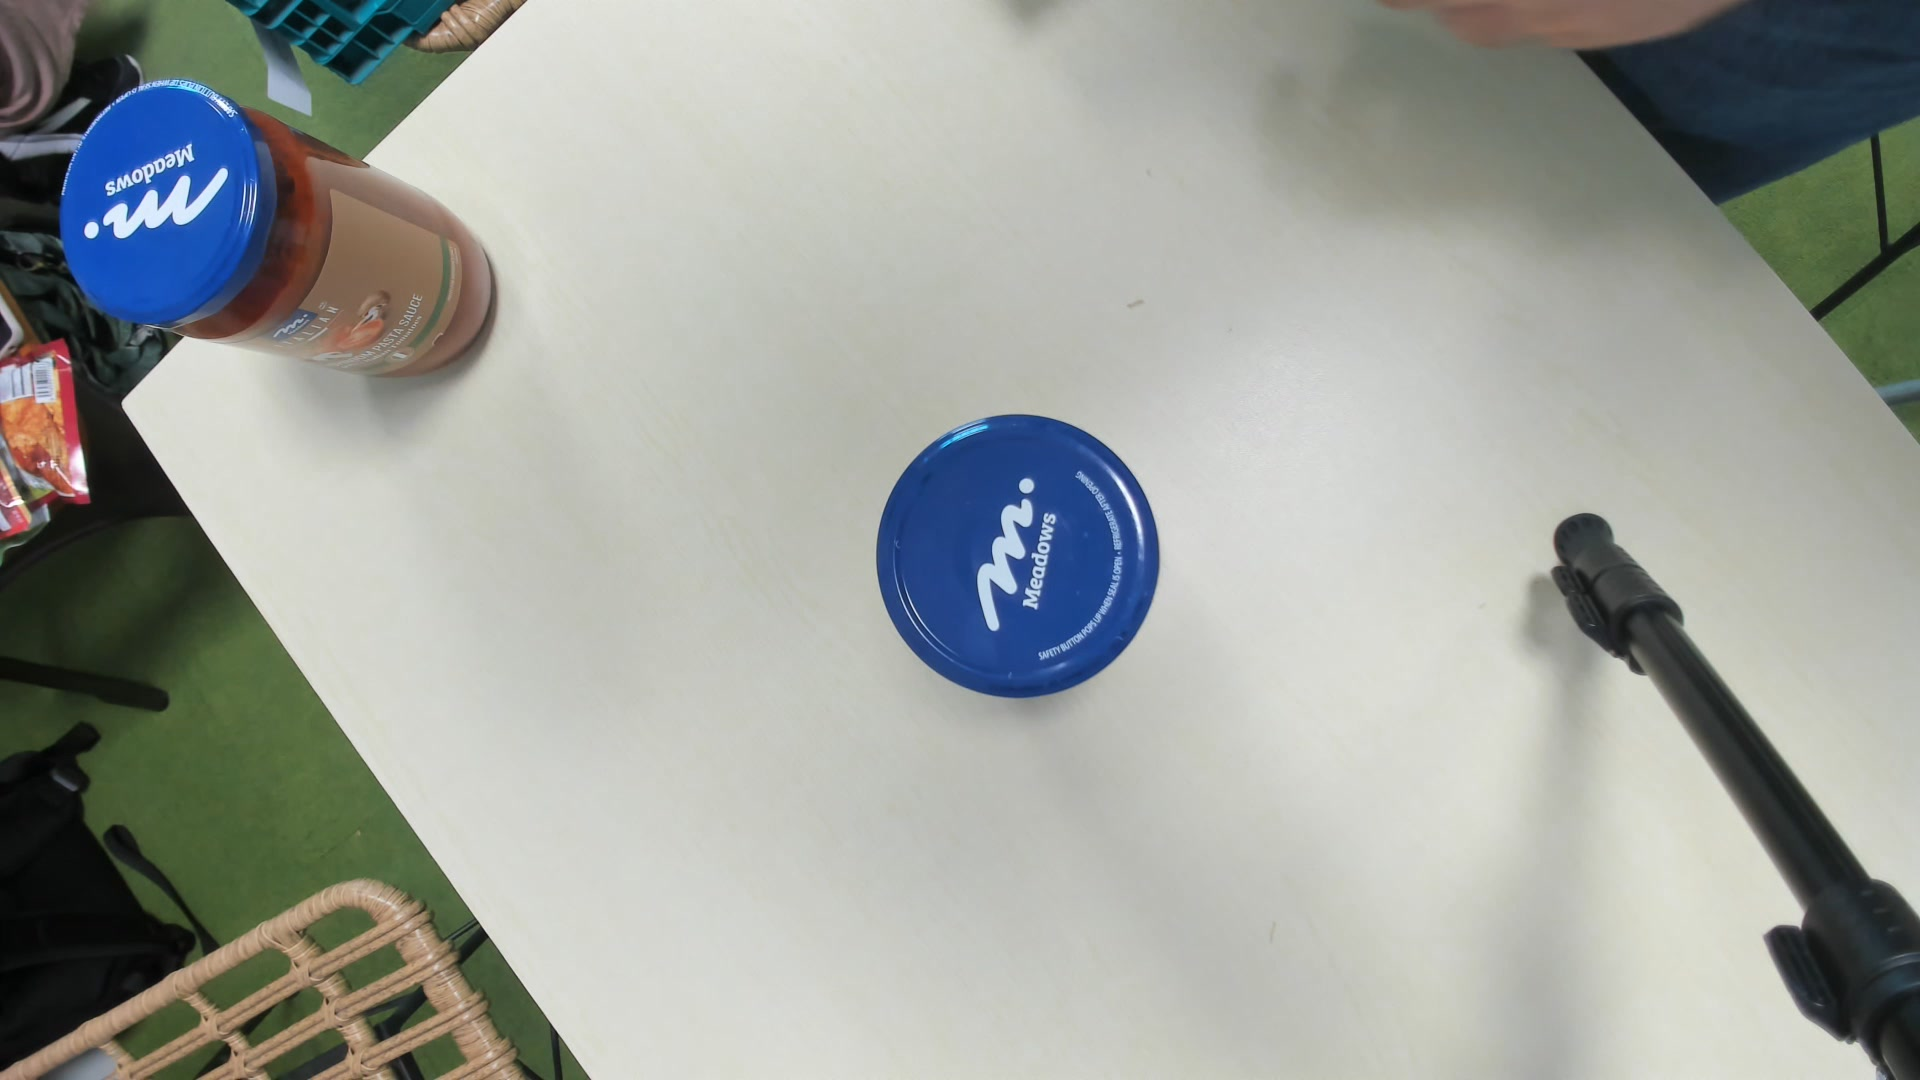PastaSauce_600-699g_Halal_NonHealthy: (872, 415, 1159, 699)
